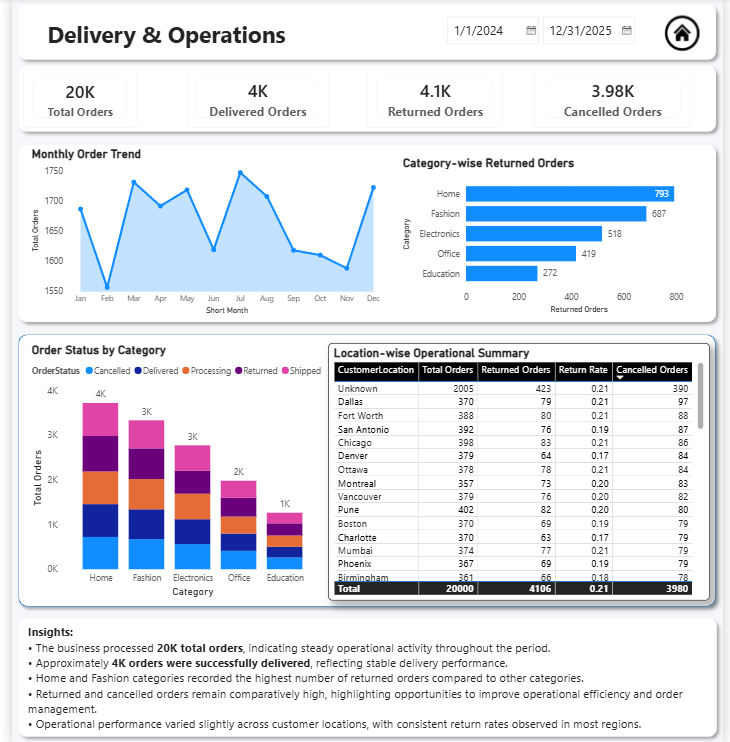

The dashboard page shown, as its layout file describes it:
{"tool":"powerbi","page":{"name":"Delivery & Operations","canvas":[1000,1050],"ordinal":3},"visuals":[{"type":"shape","box":[0,0,1000,96],"z":0},{"type":"shape","box":[0,87,1000,111],"z":1000},{"type":"cardVisual","fields":{"Data":["ecommerce_sales.Total Orders"]},"box":[16,100,159,82],"z":2000},{"type":"cardVisual","fields":{"Data":["ecommerce_sales.Delivered Orders"]},"box":[246.3,100.3,198.8,82],"z":3000},{"type":"cardVisual","fields":{"Data":["ecommerce_sales.Returned Orders"]},"box":[499.3,100,191,82.1],"z":4000},{"type":"cardVisual","fields":{"Data":["ecommerce_sales.Cancelled Orders"]},"box":[735.6,100,219.5,82.1],"z":5000},{"type":"shape","box":[0,197,1000,268],"z":6000},{"type":"areaChart","title":"Monthly Order Trend","fields":{"Category":["Calendar.Short Month"],"Y":["ecommerce_sales.Total Orders"]},"box":[23.5,209.5,506,241],"z":7000},{"type":"clusteredBarChart","title":"Category-wise Returned Orders","fields":{"Category":["ecommerce_sales.Category"],"Y":["ecommerce_sales.Returned Orders"]},"box":[544.6,221.2,427.3,227.9],"z":8000},{"type":"shape","box":[0,863,1001.1,185],"z":9000},{"type":"shape","box":[0,464.5,999.3,401.1],"z":10000},{"type":"columnChart","title":"Order Status by Category","fields":{"Category":["ecommerce_sales.Category"],"Series":["ecommerce_sales.OrderStatus"],"Y":["ecommerce_sales.Total Orders"]},"box":[22.9,485.6,418.7,362.4],"z":11000},{"type":"tableEx","title":"Location-wise Operational Summary","fields":{"Values":["ecommerce_sales.CustomerLocation","ecommerce_sales.Total Orders","ecommerce_sales.Returned Orders","ecommerce_sales.Return Rate","ecommerce_sales.Cancelled Orders"]},"box":[445,485,536.6,362.4],"z":12000},{"type":"textbox","box":[15.8,15.8,402.9,63.3],"z":13000},{"type":"actionButton","box":[906,12,72,73],"z":14000},{"type":"slicer","fields":{"Values":["Calendar.Date"]},"box":[600,16,288,63],"z":15000},{"type":"textbox","box":[18,877,968,161],"z":16000}]}

Visuals, with their boxes on the page's 1000x1050 design canvas (x1, y1, x2, y2). These are canvas units, not pixel positions in the 730x742 screenshot, which may show the page scaled, cropped or inside an application window:
shape: 0:0:1000:96
shape: 0:87:1000:198
cardVisual - ecommerce_sales.Total Orders: 16:100:175:182
cardVisual - ecommerce_sales.Delivered Orders: 246:100:445:182
cardVisual - ecommerce_sales.Returned Orders: 499:100:690:182
cardVisual - ecommerce_sales.Cancelled Orders: 736:100:955:182
shape: 0:197:1000:465
"Monthly Order Trend" areaChart: 24:210:530:450
"Category-wise Returned Orders" clusteredBarChart: 545:221:972:449
shape: 0:863:1001:1048
shape: 0:464:999:866
"Order Status by Category" columnChart: 23:486:442:848
"Location-wise Operational Summary" tableEx: 445:485:982:847
textbox: 16:16:419:79
actionButton: 906:12:978:85
slicer - Calendar.Date: 600:16:888:79
textbox: 18:877:986:1038
